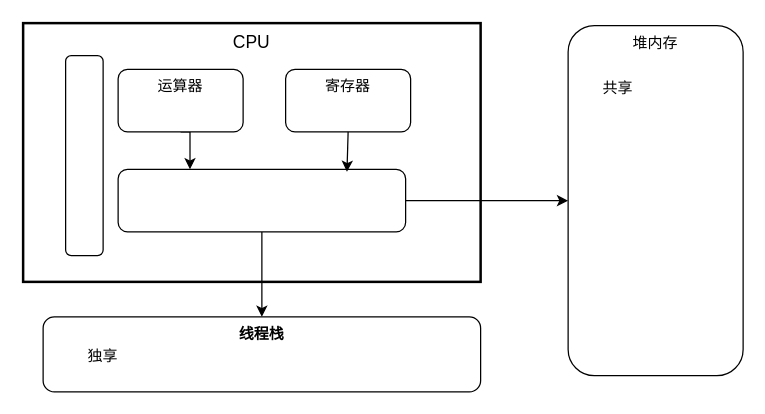
Some shapes in this 765 by 414 pixel diagram are drawn without their labels. The shapes that lost their labels are listed below. From the top down, each one's centre as x and y in pixels, then its label:
At pixel 83 155: "控制器".
At pixel 261 200: "缓存".
